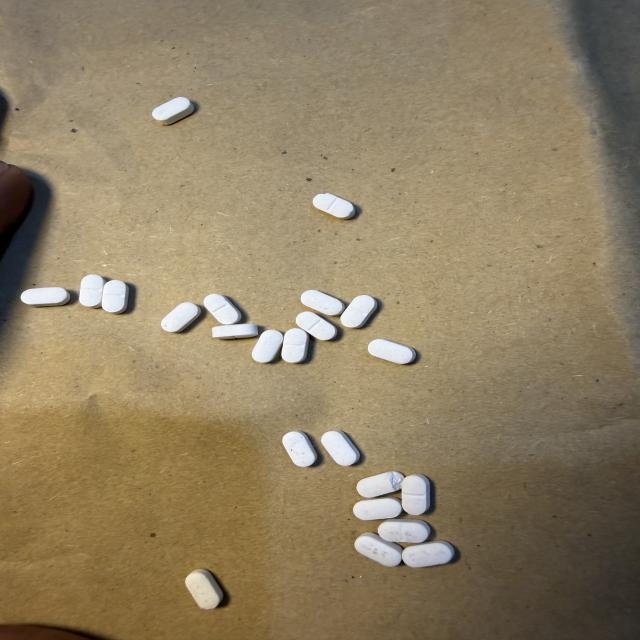pill: (355, 533, 402, 566), (185, 570, 223, 609), (402, 541, 454, 567), (321, 431, 359, 466), (282, 431, 317, 467), (378, 519, 430, 543), (357, 471, 404, 497), (341, 295, 377, 328), (368, 339, 415, 364), (401, 475, 430, 515), (161, 303, 201, 332), (296, 312, 337, 340), (353, 497, 402, 520), (301, 290, 344, 316), (204, 294, 241, 324), (152, 97, 193, 124), (313, 194, 355, 219), (252, 330, 282, 363), (21, 287, 70, 306), (282, 328, 308, 363), (79, 275, 105, 308), (102, 280, 128, 313), (213, 324, 257, 339)
